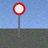sign: (13, 2, 25, 37)
